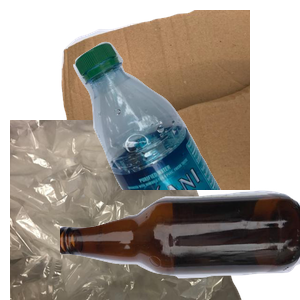cardboard: (43, 10, 283, 190)
glass: (60, 188, 300, 300)
plastic: (71, 39, 300, 219)
trash: (10, 120, 244, 300)
